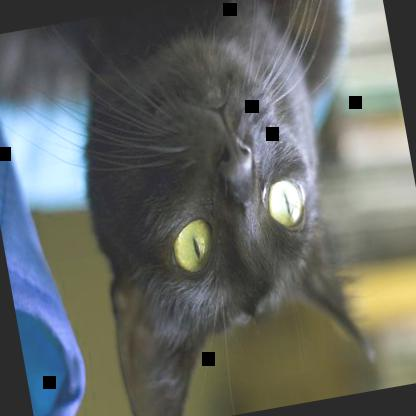cat: (56, 0, 407, 415)
